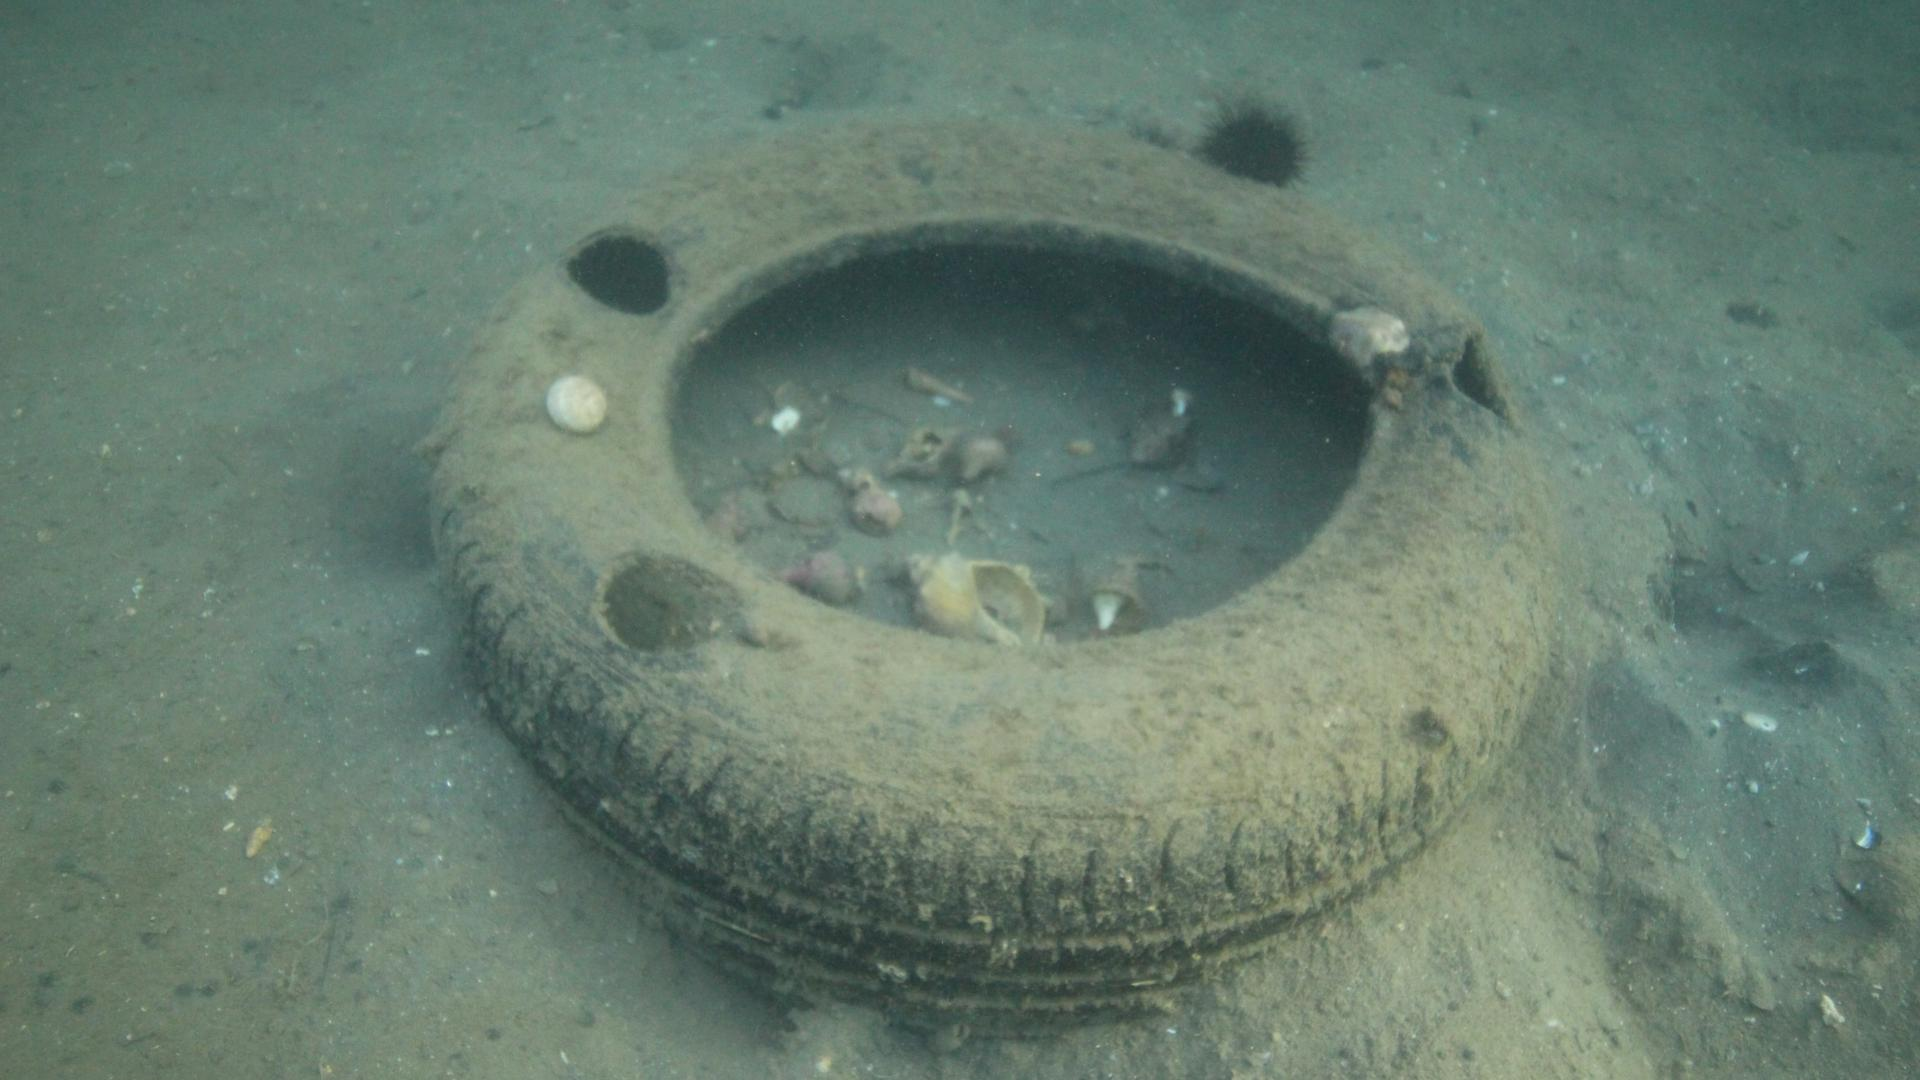tire: (425, 112, 1556, 1044)
